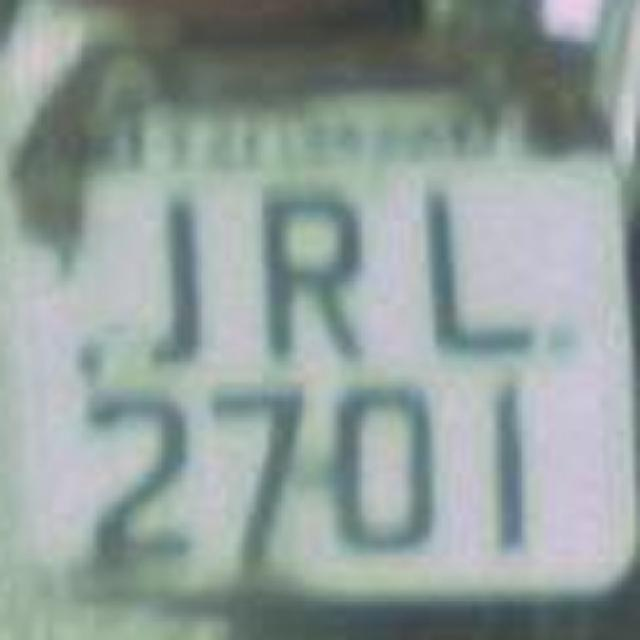0: (331, 372, 444, 568)
1: (475, 372, 540, 548)
2: (52, 375, 212, 600)
7: (204, 380, 316, 575)
J: (404, 164, 528, 368), (108, 172, 220, 392)
R: (245, 176, 380, 372)
